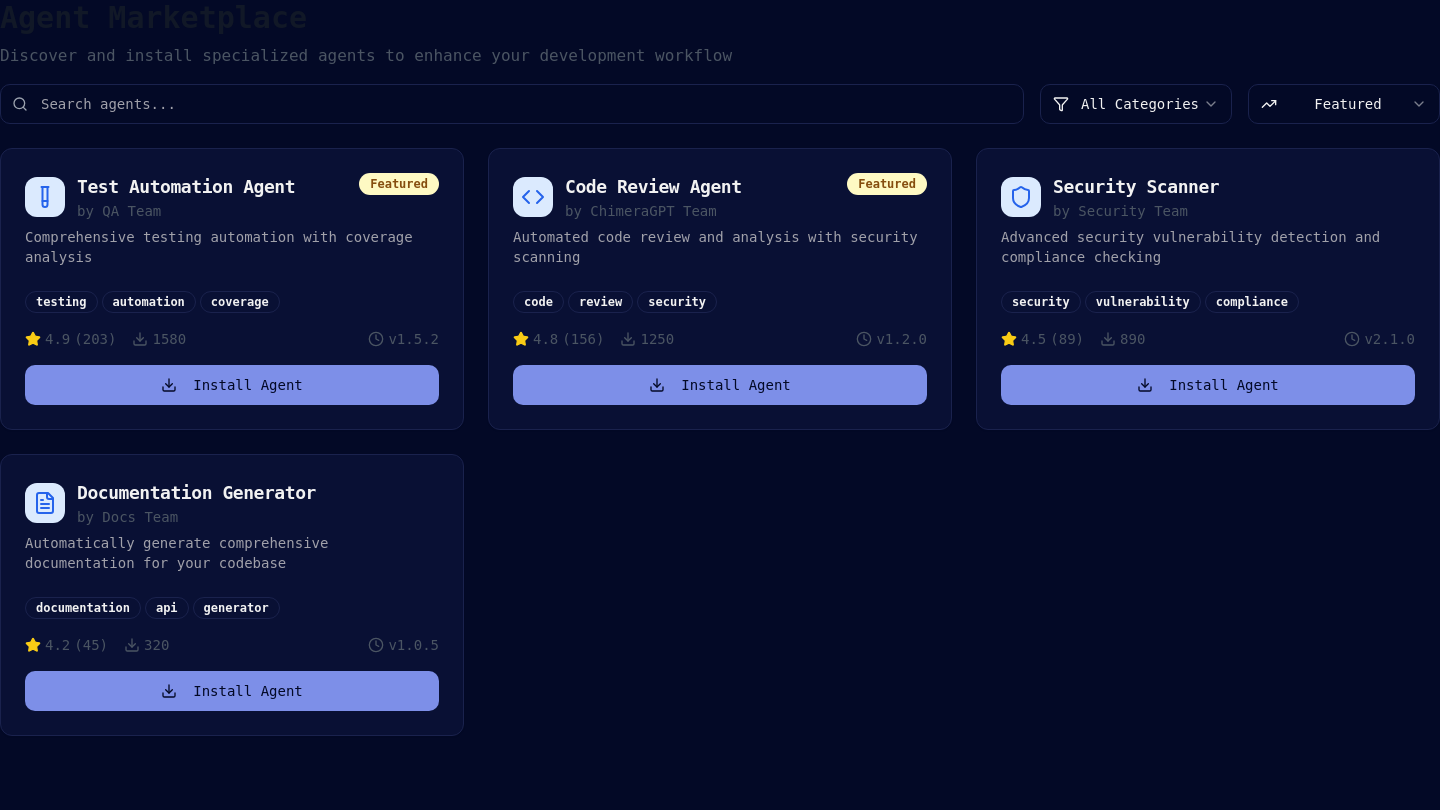
it: AgentMarketplace › disables install button when name is empty
Check: the text "Code Review Agent" is shown, box [565,173,742,201]
Open install dialog
Click the button "Install Agent" below "4.9": (232, 385) [25,365,439,405]
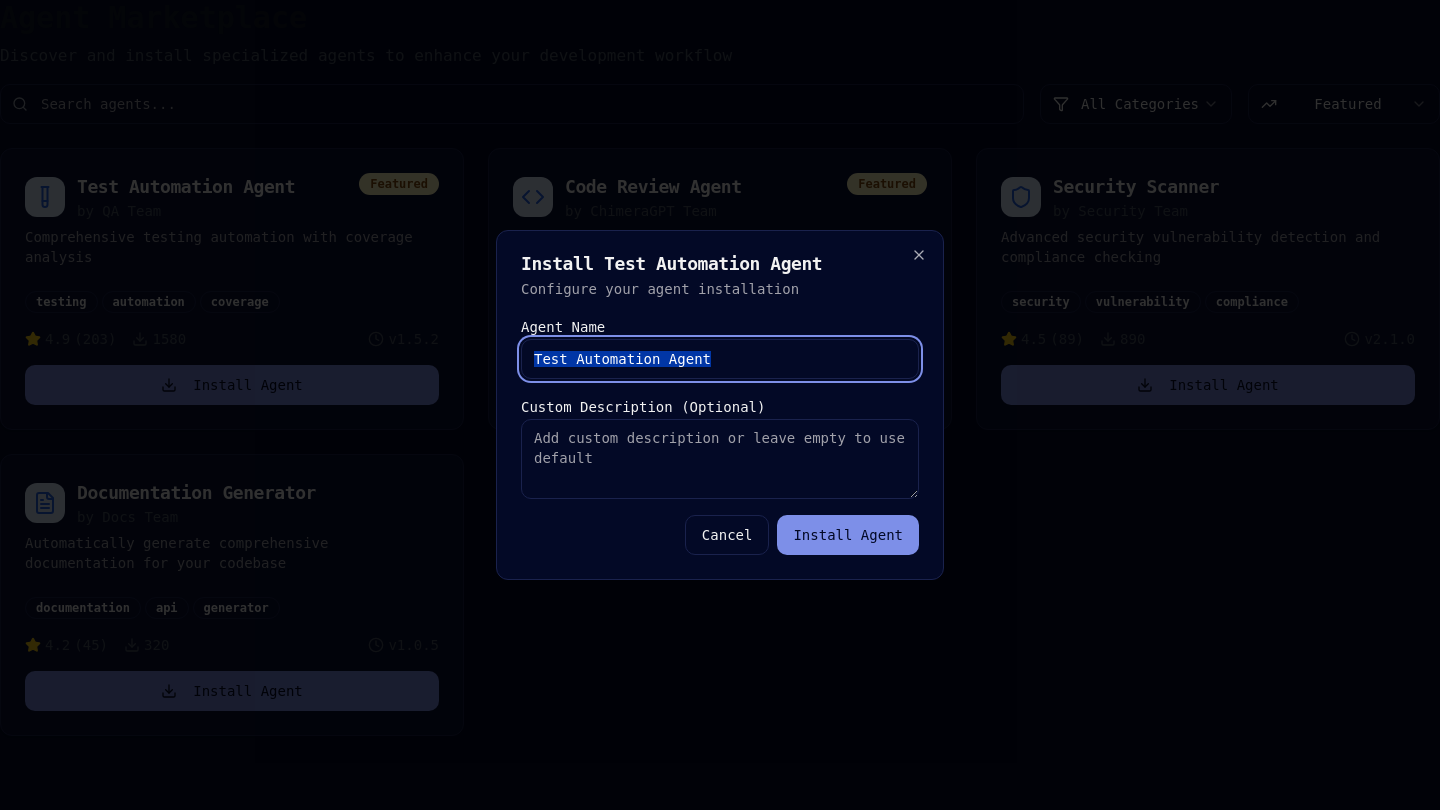
Clear agent name
Clear the field labelled "Agent Name": (720, 359) [521,339,919,379]
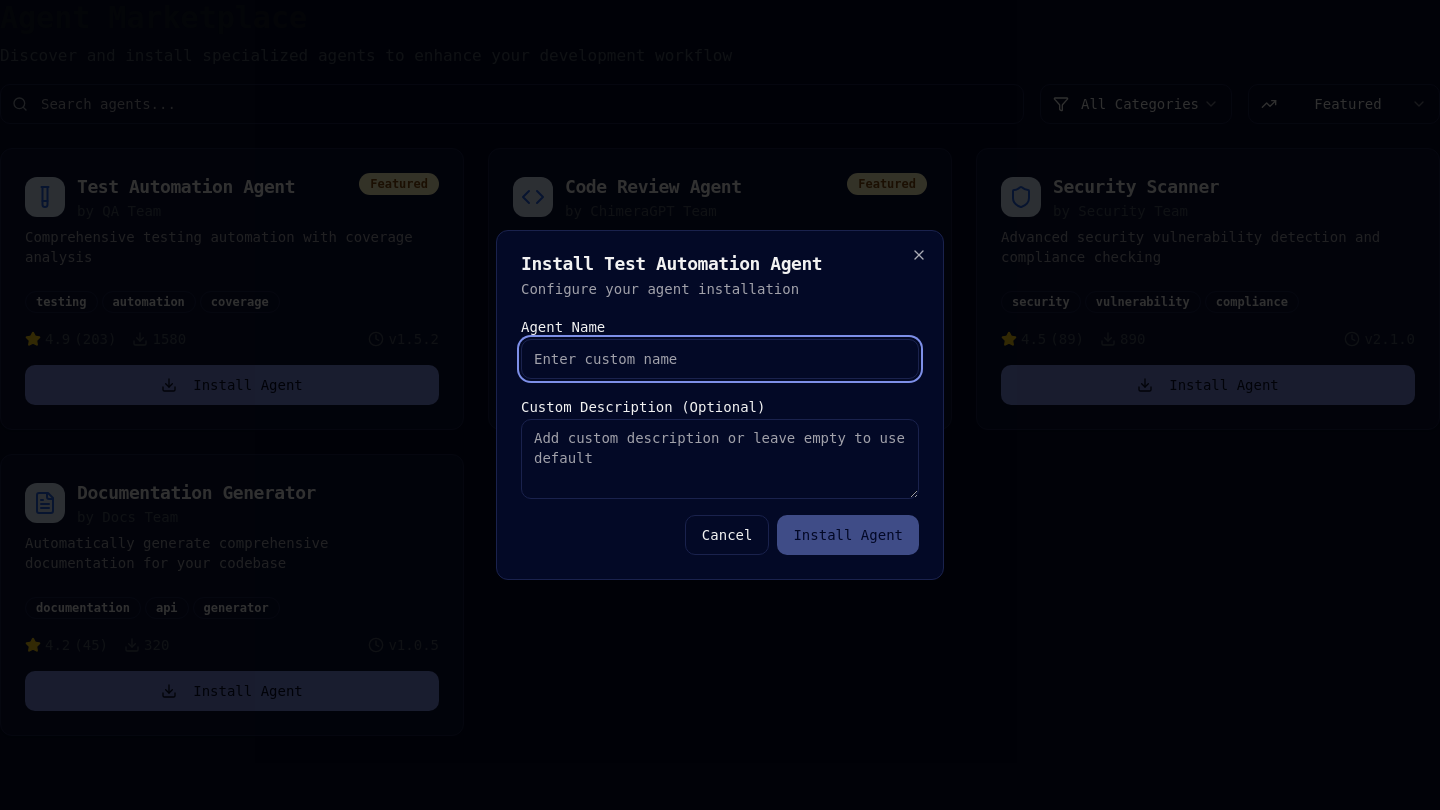
Check: the button "Install Agent" is disabled, box [777,515,919,555]
